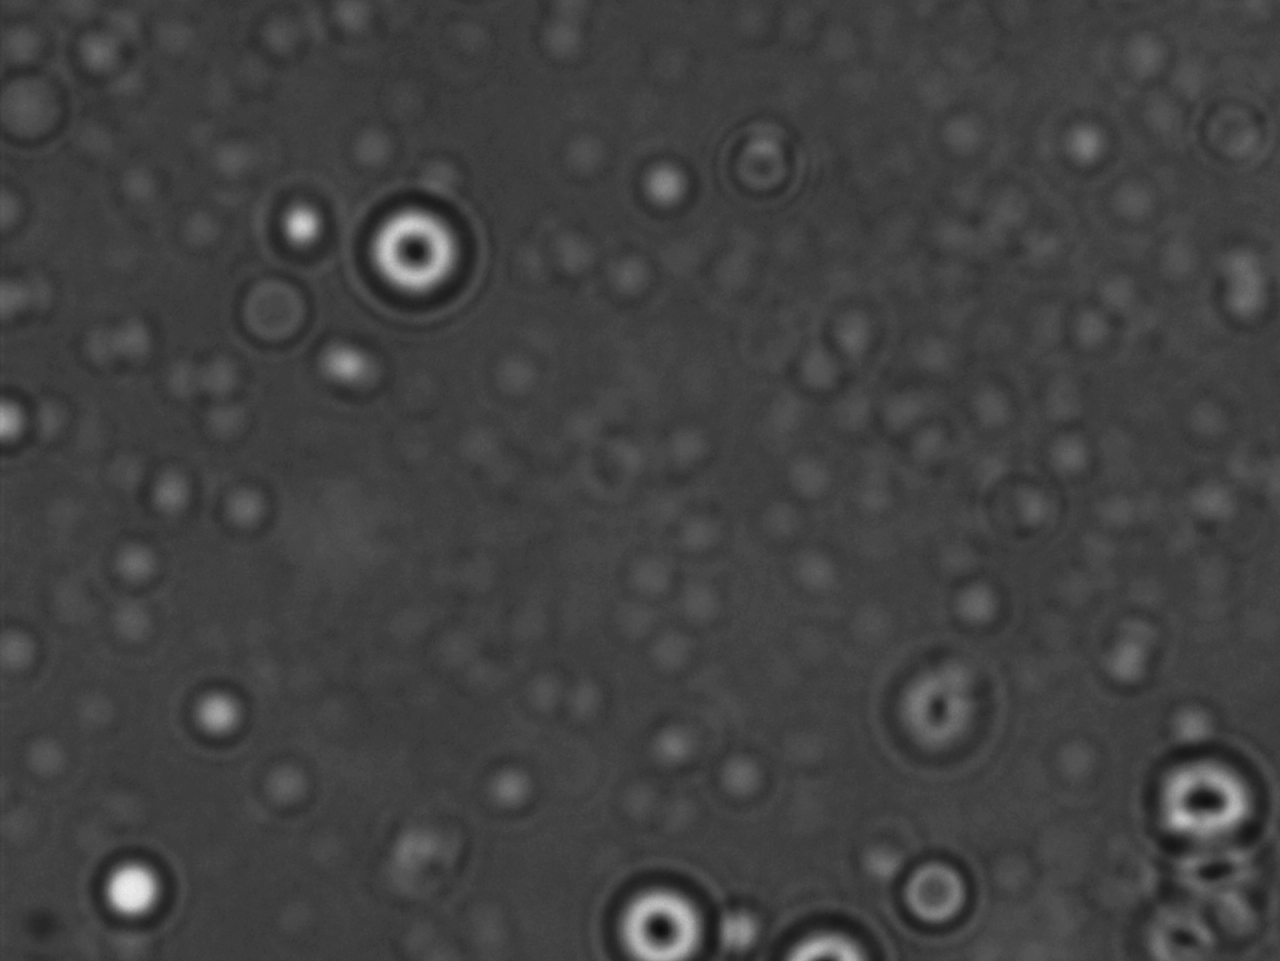depth:24: (339, 182, 492, 317), (1133, 728, 1277, 860), (600, 863, 751, 961)
